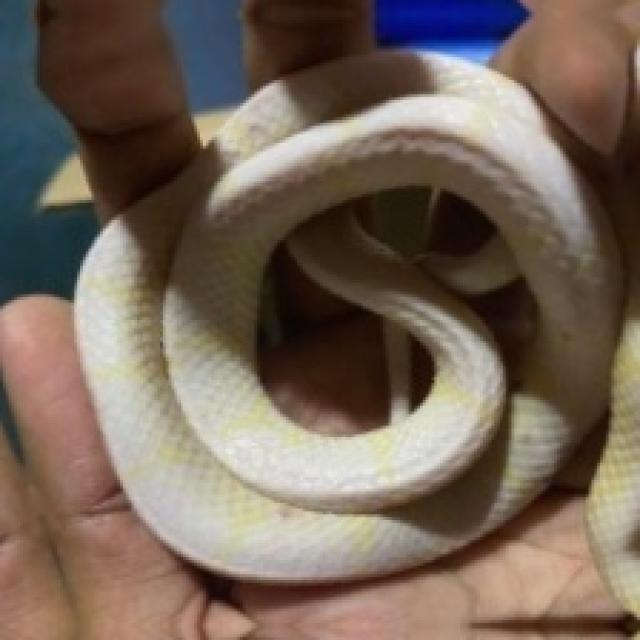gunthers philippine shrub snake: (74, 51, 620, 580)
